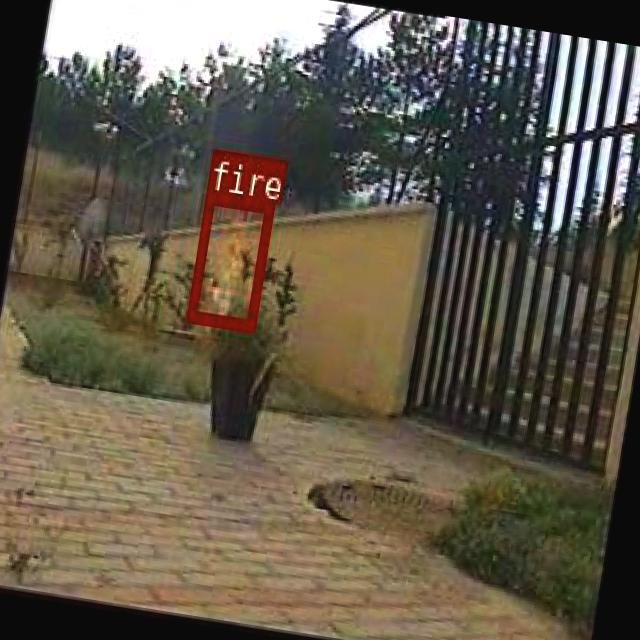fire: (186, 190, 272, 331)
